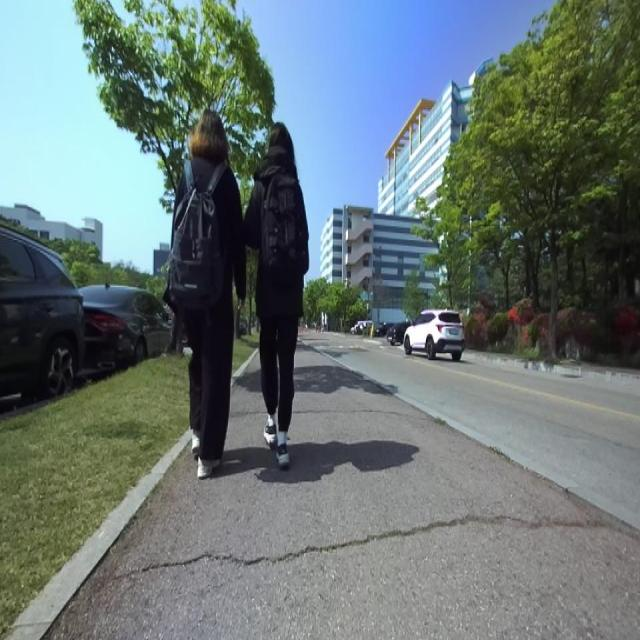sidewalk: (46, 347, 640, 639), (300, 340, 640, 529), (7, 430, 190, 640), (230, 348, 259, 385)
